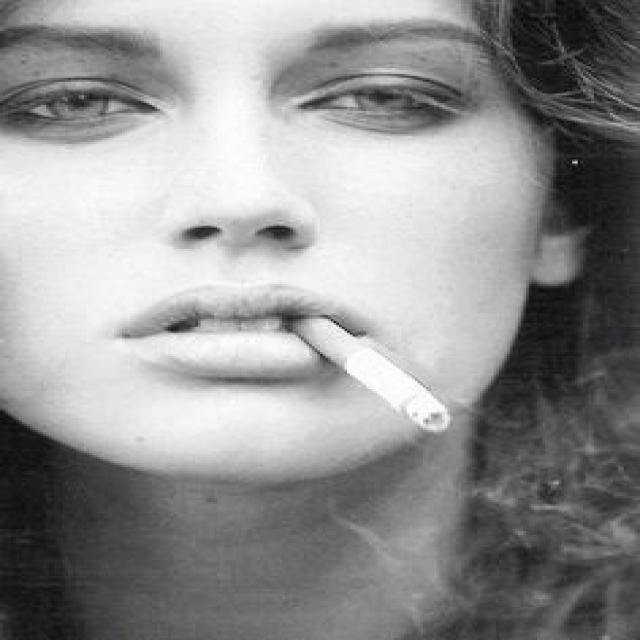rokok: (284, 313, 452, 435)
